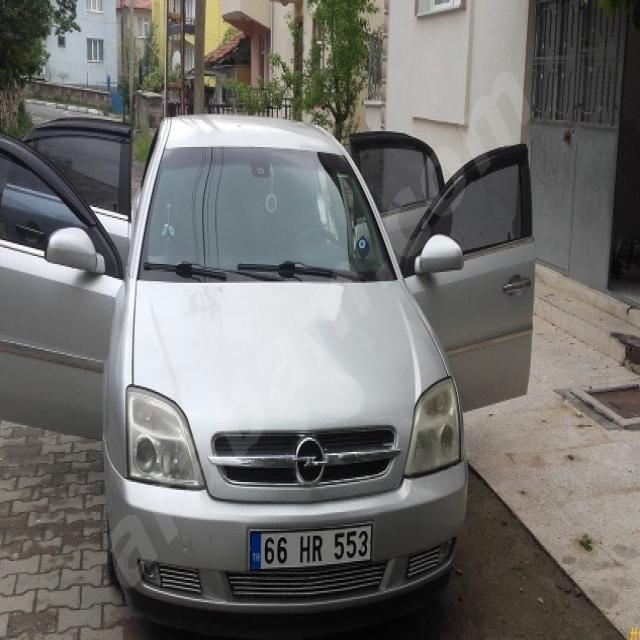license_plate: (249, 523, 373, 571)
